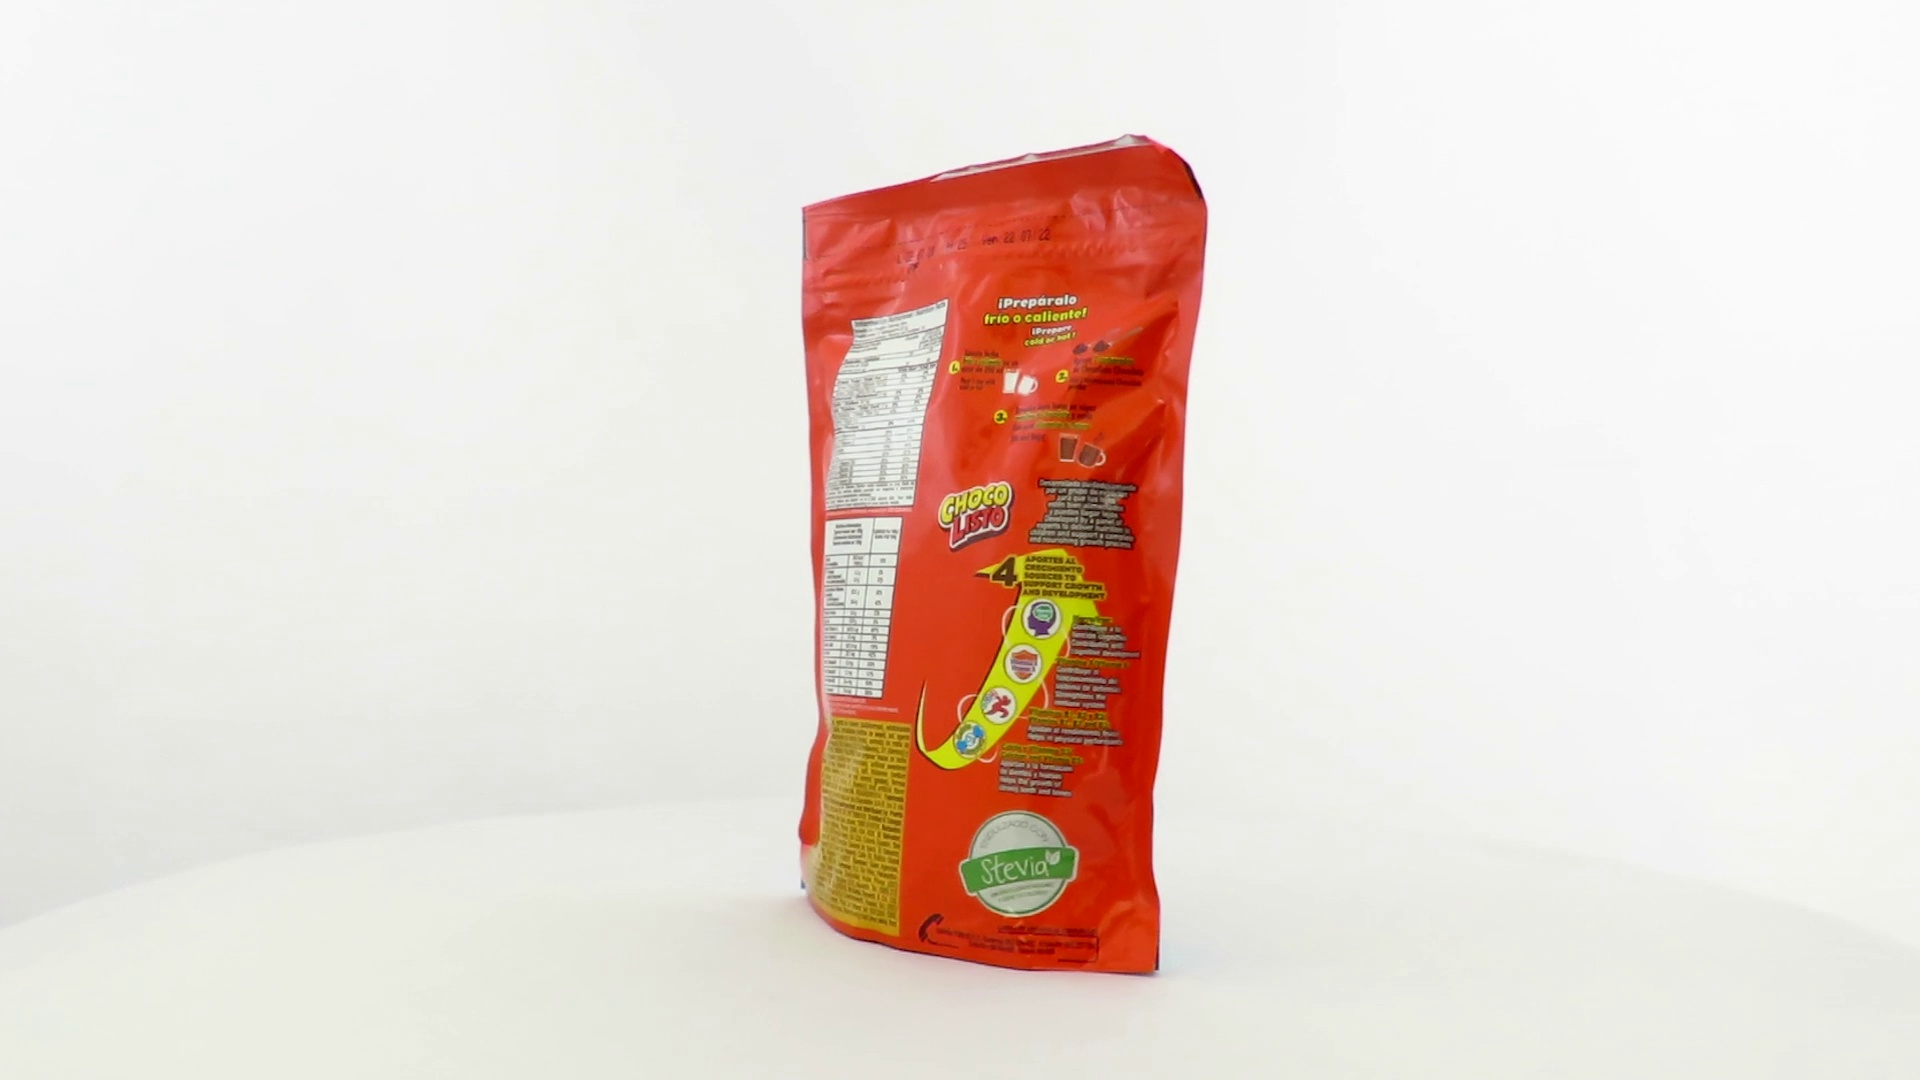COL0170104DYP20000: (793, 128, 1215, 984)
